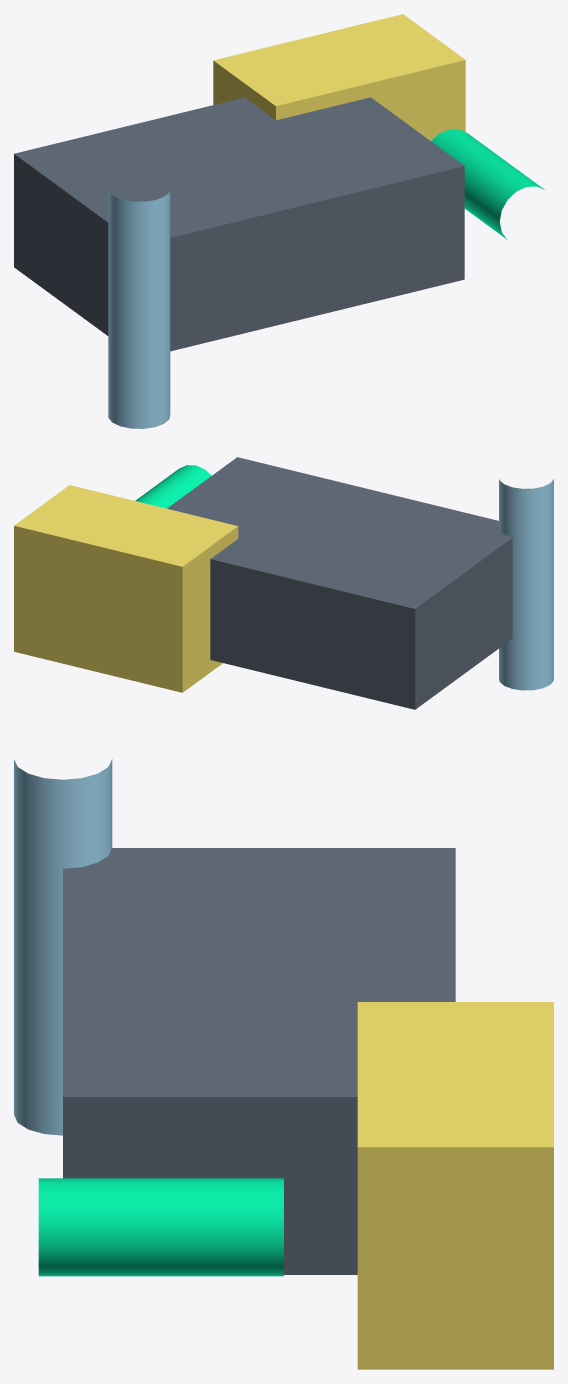
Rendered from schmitt_trigger_comparators.glb.
3 views of the same model, one above another, from view 1: azimuth 30°, elevation 25°; view 2: azimuth 150°, elevation 25°; view 3: azimuth 270°, elevation 25° (orthographic). The views are drawn at different scales.
Parts seen in each view (by area): view 1: DIP8OpAmpIC741Package, ThresholdReferenceBiasSource, PositiveFeedbackVoltageDivider, SaturatedBistableOutputTerminal; view 2: DIP8OpAmpIC741Package, ThresholdReferenceBiasSource, PositiveFeedbackVoltageDivider, SaturatedBistableOutputTerminal; view 3: DIP8OpAmpIC741Package, ThresholdReferenceBiasSource, SaturatedBistableOutputTerminal, PositiveFeedbackVoltageDivider.
Part boxes in pixels (box(x1,y1,x2,y2)): DIP8OpAmpIC741Package: box(14, 97, 464, 351); ThresholdReferenceBiasSource: box(213, 14, 465, 140); PositiveFeedbackVoltageDivider: box(108, 188, 170, 428); SaturatedBistableOutputTerminal: box(431, 129, 544, 239); DIP8OpAmpIC741Package: box(167, 457, 512, 709); ThresholdReferenceBiasSource: box(14, 485, 238, 692); PositiveFeedbackVoltageDivider: box(499, 478, 553, 690); SaturatedBistableOutputTerminal: box(135, 465, 211, 508); DIP8OpAmpIC741Package: box(63, 848, 455, 1274); ThresholdReferenceBiasSource: box(357, 1002, 553, 1369); SaturatedBistableOutputTerminal: box(38, 1178, 283, 1276); PositiveFeedbackVoltageDivider: box(14, 759, 112, 1135).
Bounding box in the file's own units: 0.825 × 0.4 × 0.55.
